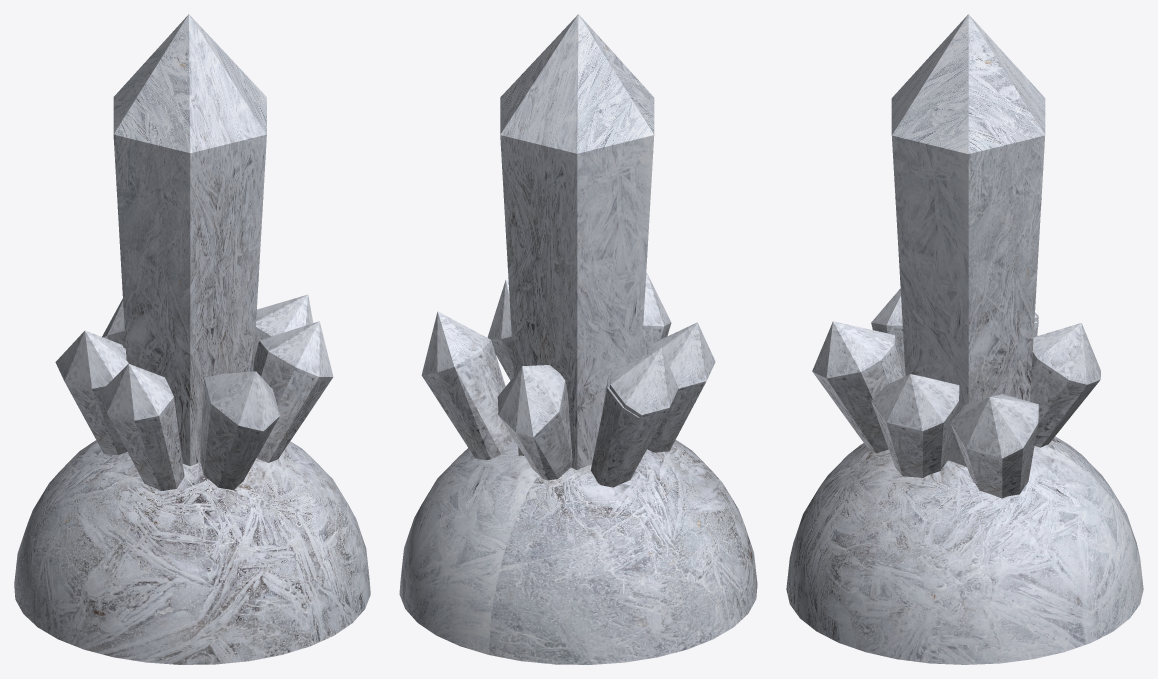
Rendered from LampLight_3DAsset_BlueCrystal.FBX.
3 views of the same model, side by side, from view 1: azimuth 30°, elevation 25°; view 2: azimuth 150°, elevation 25°; view 3: azimuth 270°, elevation 25° (orthographic).
Parts seen in each view (by area): view 1: LampLight_Crystal_Base003, LampLight_Blue_Normal, Crystal019, Crystal014, Crystal012, Crystal015, Crystal018, Crystal020; view 2: LampLight_Crystal_Base003, LampLight_Blue_Normal, Crystal018, Crystal020, Crystal015, Crystal014, Crystal016, Crystal012, Crystal019; view 3: LampLight_Crystal_Base003, LampLight_Blue_Normal, Crystal019, Crystal018, Crystal012, Crystal020, Crystal014.
Part boxes in pixels (x1,y1,x2,y2): LampLight_Crystal_Base003: (14, 440, 370, 664); LampLight_Blue_Normal: (113, 14, 266, 466); Crystal019: (200, 371, 279, 489); Crystal014: (98, 363, 184, 490); Crystal012: (253, 321, 333, 462); Crystal015: (55, 330, 128, 454); Crystal018: (254, 294, 313, 360); Crystal020: (102, 298, 125, 348); LampLight_Crystal_Base003: (399, 440, 757, 664); LampLight_Blue_Normal: (500, 14, 654, 470); Crystal018: (421, 311, 514, 460); Crystal020: (497, 365, 572, 480); Crystal015: (601, 347, 678, 487); Crystal014: (647, 322, 715, 452); Crystal016: (590, 373, 639, 484); Crystal012: (487, 280, 513, 380); Crystal019: (641, 273, 671, 356); LampLight_Crystal_Base003: (786, 436, 1143, 664); LampLight_Blue_Normal: (891, 14, 1045, 466); Crystal019: (812, 321, 905, 453); Crystal018: (950, 394, 1038, 498); Crystal012: (871, 374, 959, 477); Crystal020: (1030, 323, 1100, 447); Crystal014: (871, 288, 905, 375).
Bounding box in the file's own units: 43.45 × 77.1 × 43.45.
